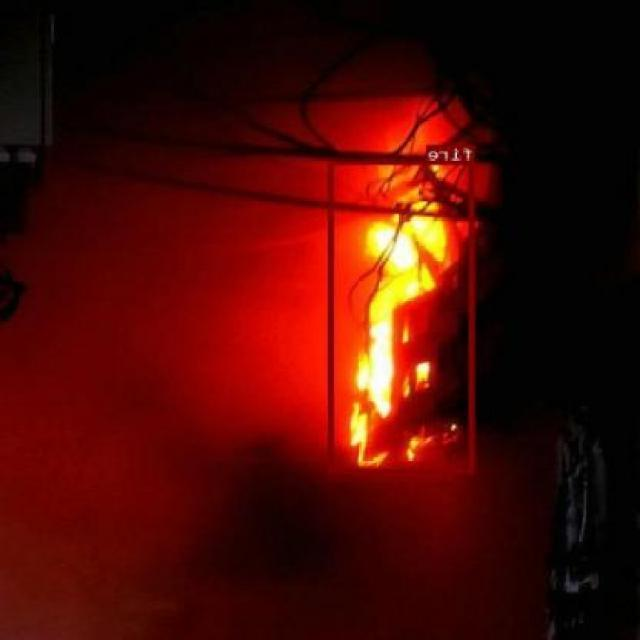fire: (330, 159, 476, 473)
